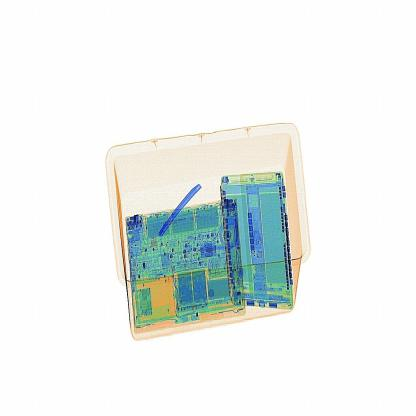pliers: (157, 169, 209, 246)
